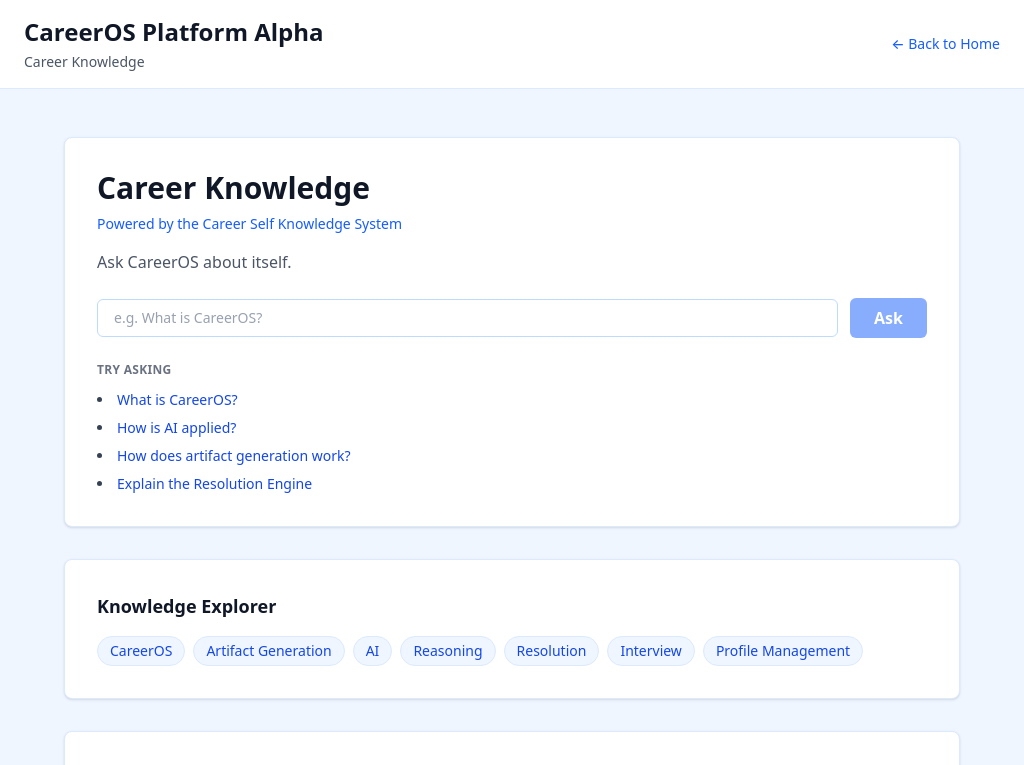
CareerKnowledgePage › populates the search box when an explorer chip is clicked without executing
Step 1. Click the button "Artifact Generation" → (269, 651), box [193,636,345,666]
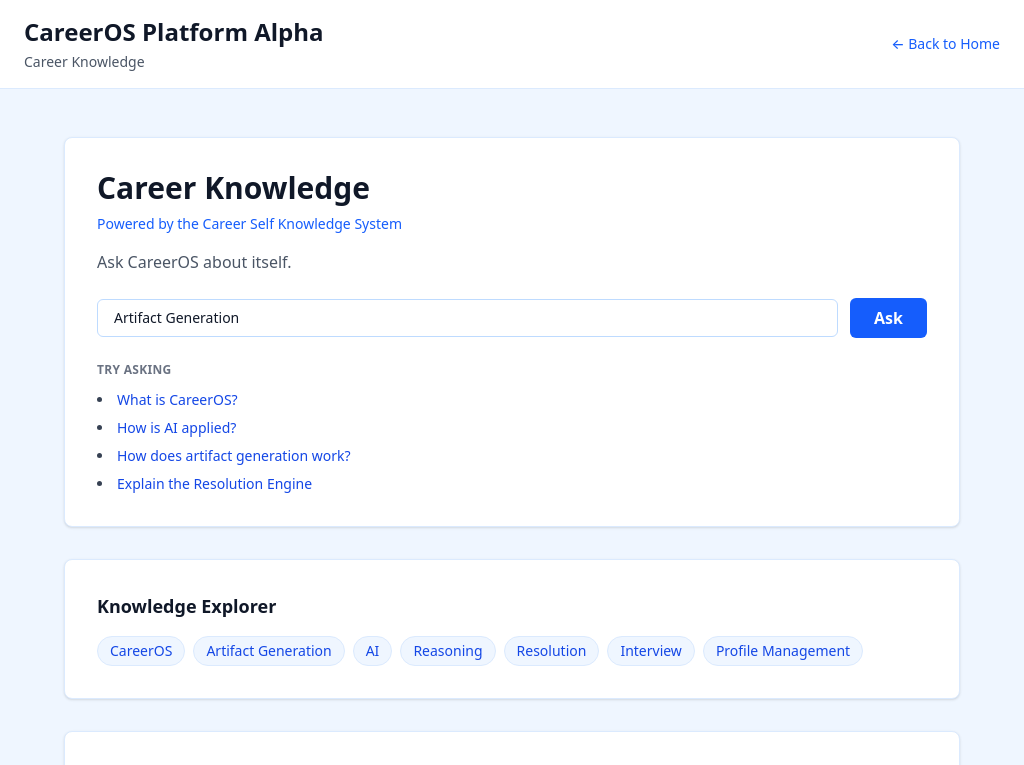
expect the field with placeholder "e.g. What is CareerOS?" holds "Artifact Generation": met, box [97,299,838,337]
